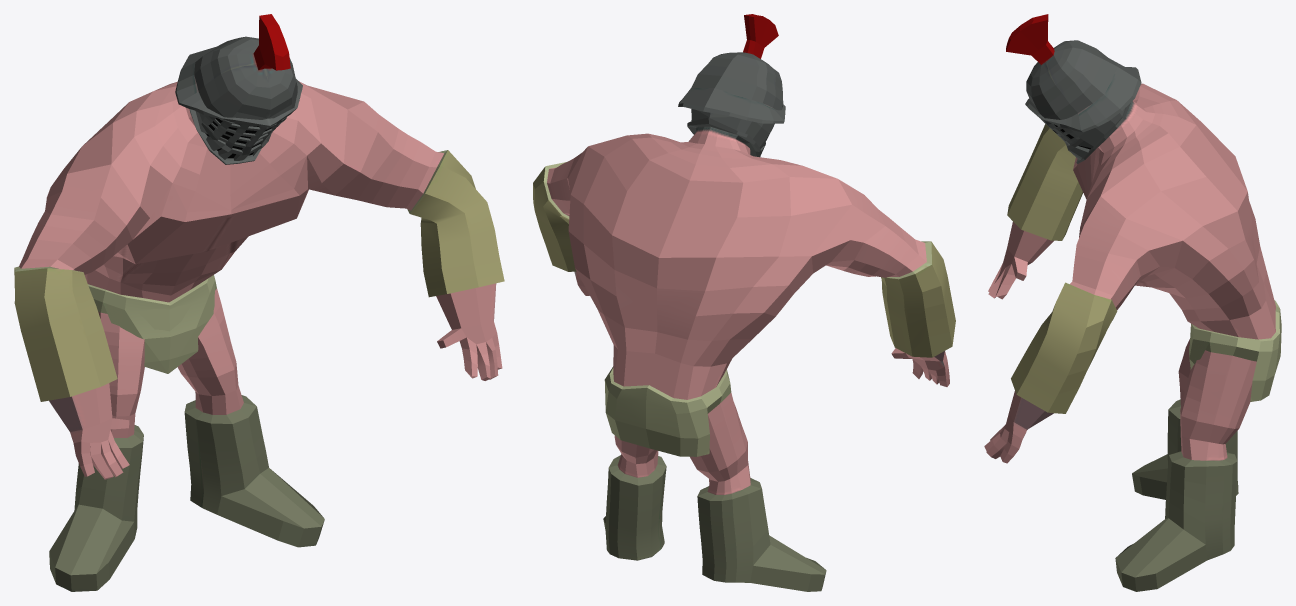
File: GladiatorCelebracion_000509.obj
3 renders of one model, left to right at view 1: azimuth 30°, elevation 25°; view 2: azimuth 150°, elevation 25°; view 3: azimuth 270°, elevation 25°, orthographic. The views are drawn at different scales.
Parts seen in each view (by area): view 1: Gadiador_Gladiador_H; view 2: Gadiador_Gladiador_H; view 3: Gadiador_Gladiador_H.
Part boxes in pixels (x1,y1,x2,y2): Gadiador_Gladiador_H: (14, 14, 504, 591); Gadiador_Gladiador_H: (533, 14, 955, 591); Gadiador_Gladiador_H: (984, 14, 1281, 591).
Bounding box in the file's own units: 5.64 × 6.73 × 3.43.
1 material, 1 textured.
